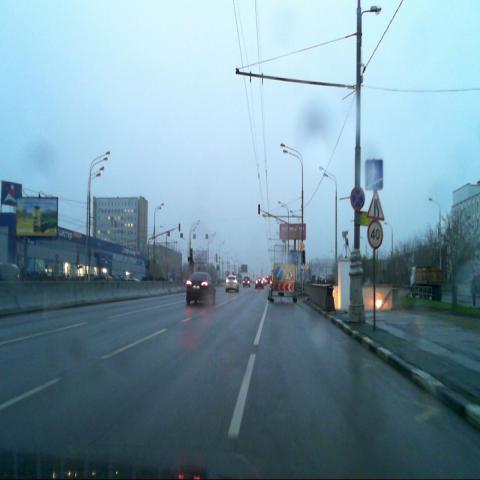1_20_2: (365, 192, 383, 219)
1_25: (284, 263, 295, 283)
3_24: (367, 222, 383, 247)
3_27: (351, 186, 364, 211)
4_2_2: (274, 264, 284, 282)
